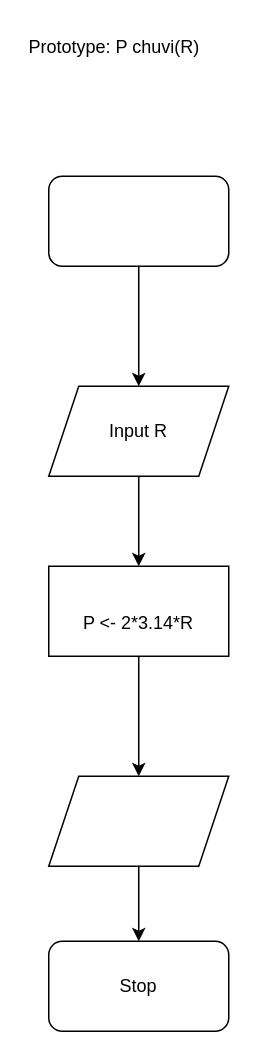
The diagram is 276 pixels wide and 1058 high, and some of its shapes have lost their labels. The box of each missing label's shape, as (x1, y1, x2, y2) in pixels:
Print P: (47, 775, 229, 866)
Start: (47, 175, 229, 266)
